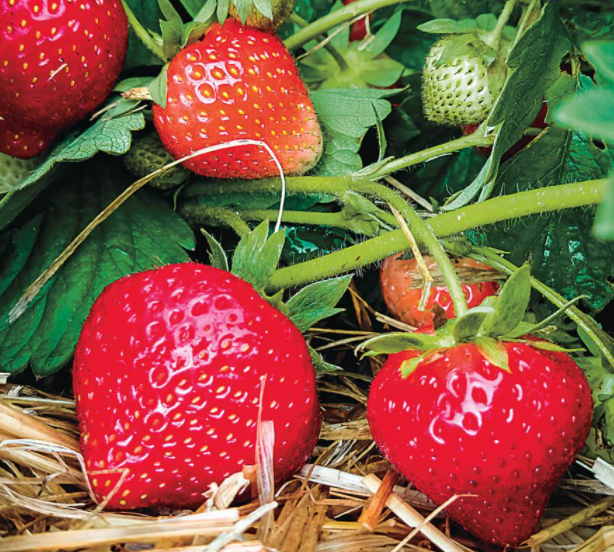ripe: (70, 257, 322, 512), (365, 315, 589, 550), (153, 22, 324, 180), (0, 0, 126, 160), (377, 237, 519, 333)
unripe: (420, 28, 524, 128)
